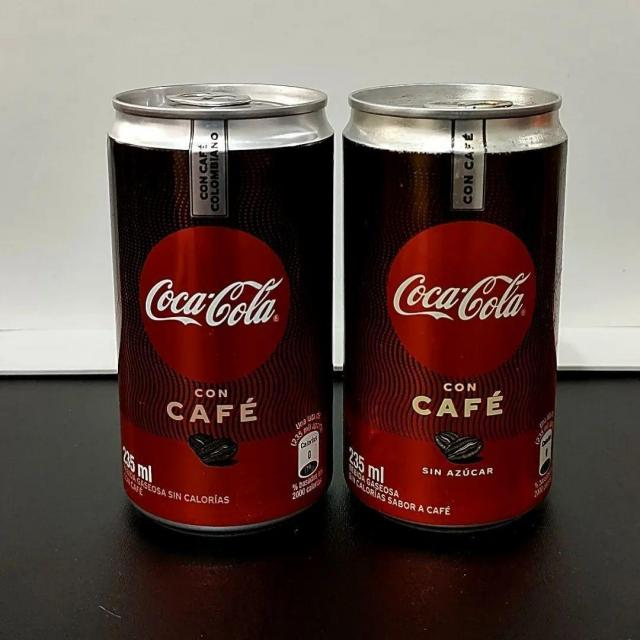tin can: (100, 77, 340, 536), (339, 79, 572, 537)
